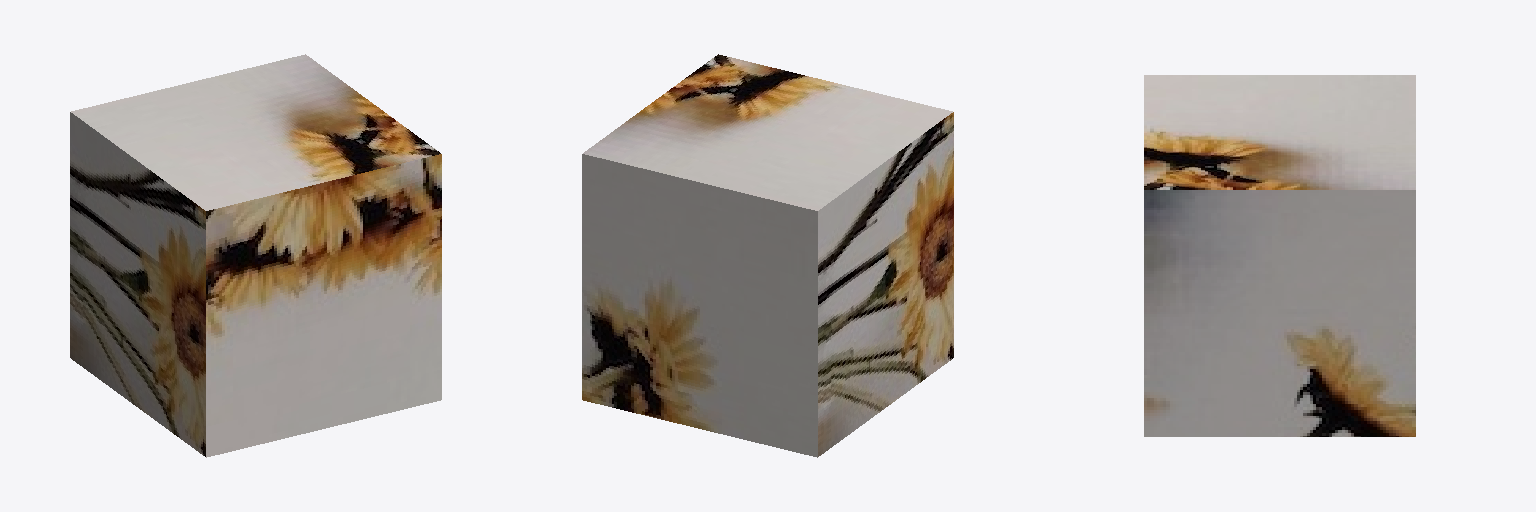
The picture shows the model from 3 angles: view 1: azimuth 30°, elevation 25°; view 2: azimuth 150°, elevation 25°; view 3: azimuth 270°, elevation 25°; orthographic projection.
Visible parts, largest first — view 1: Cube; view 2: Cube; view 3: Cube.
Boxes of the visible parts, box(x1,y1,x2,y2) form: Cube: box(70, 54, 441, 457); Cube: box(582, 54, 953, 457); Cube: box(1144, 75, 1415, 436).
Size of the model in its own units: 2 by 2 by 2.
Materials: 1 (1 with a texture image).